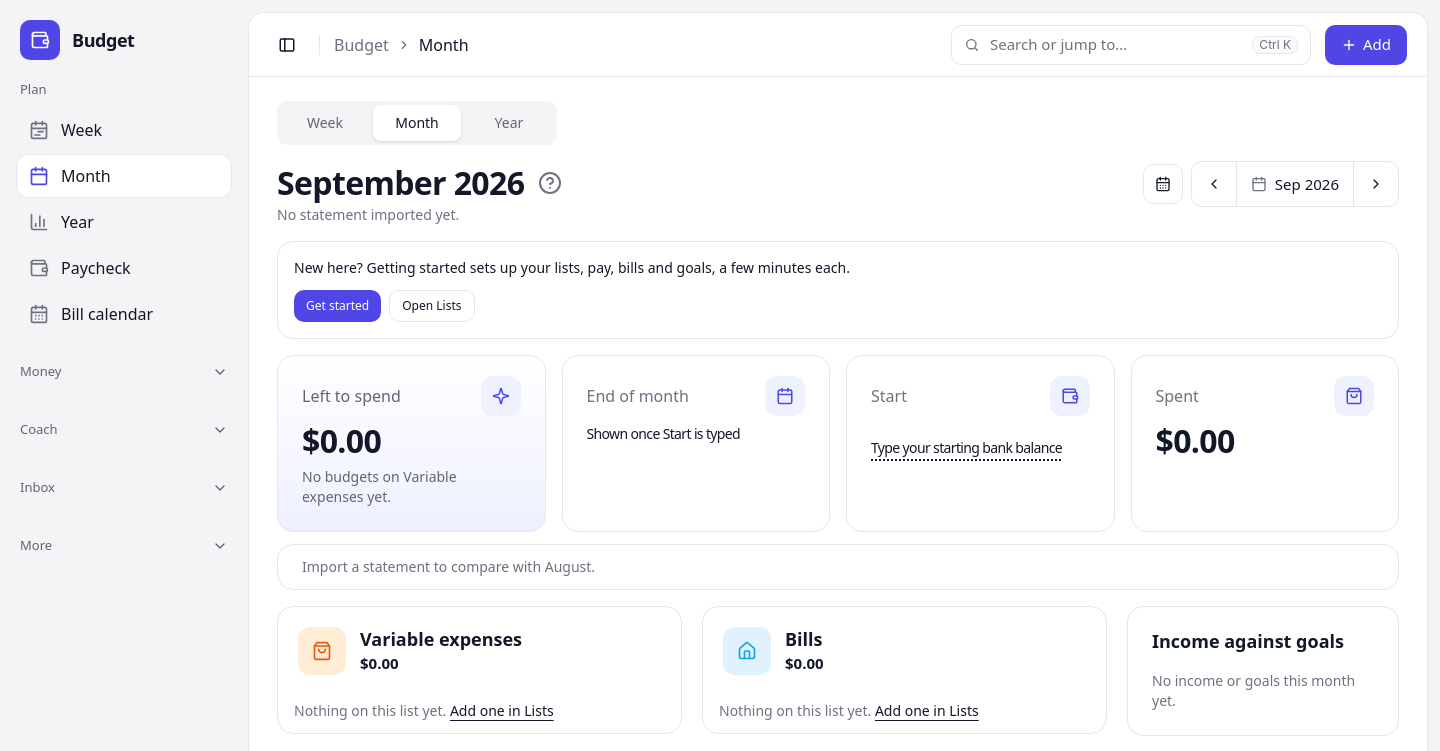
Test case: Shell, telling a screen reader the screen changed (FE-13) › names each screen in the title, and moves focus to it when another is chosen
The image size is (1440, 751).
Expected: the heading "September 2026" is shown, [277, 163, 524, 203]
Click the button named "Previous month" at coordinates (1214, 184), box [1192, 162, 1236, 206]
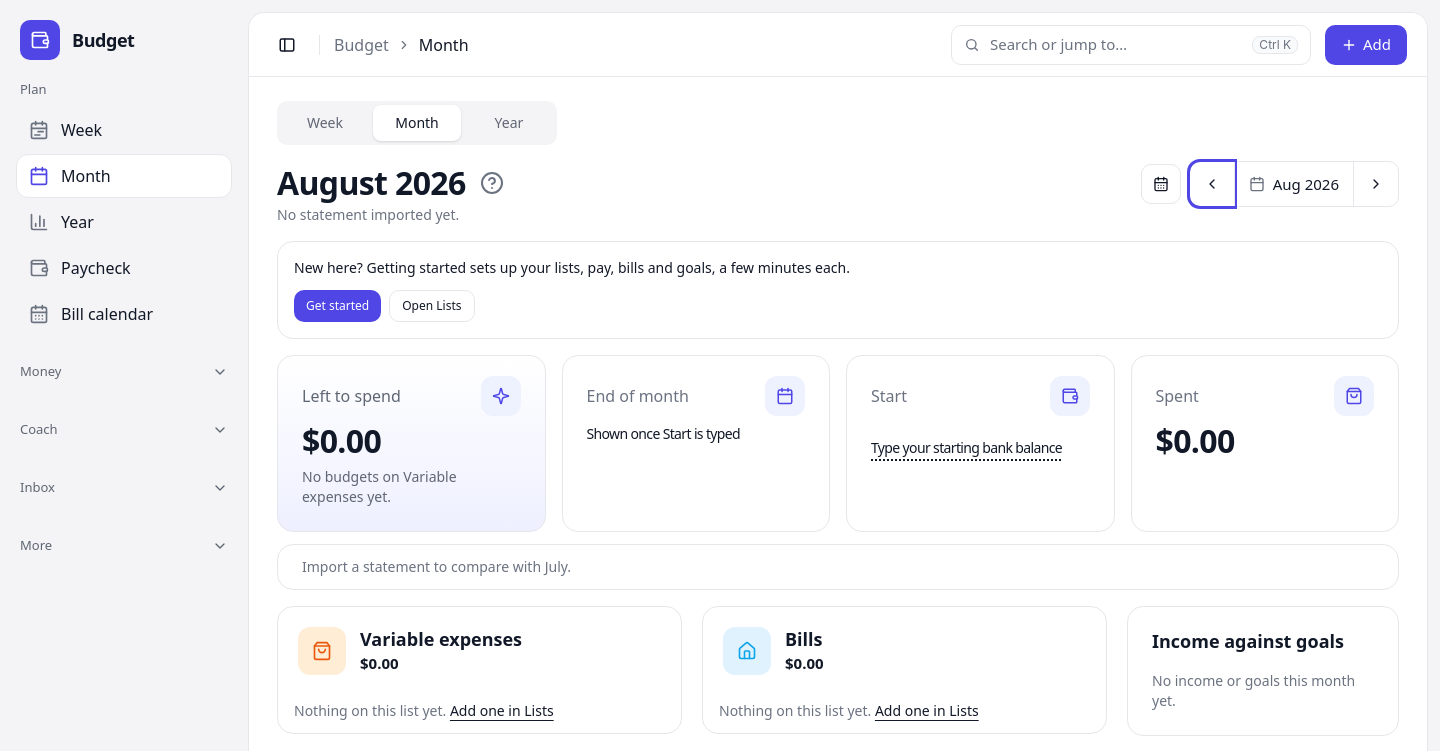
Expected: the heading "August 2026" is shown, [277, 163, 466, 203]
